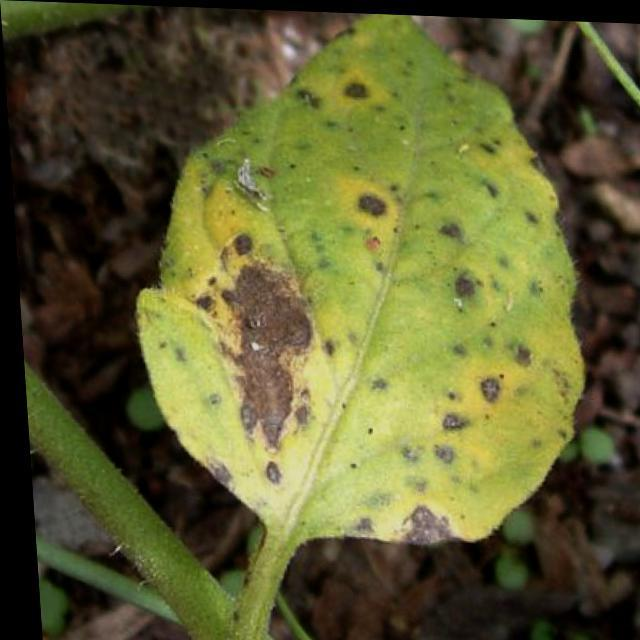Tomato Early blight leaf: (127, 15, 590, 578)
